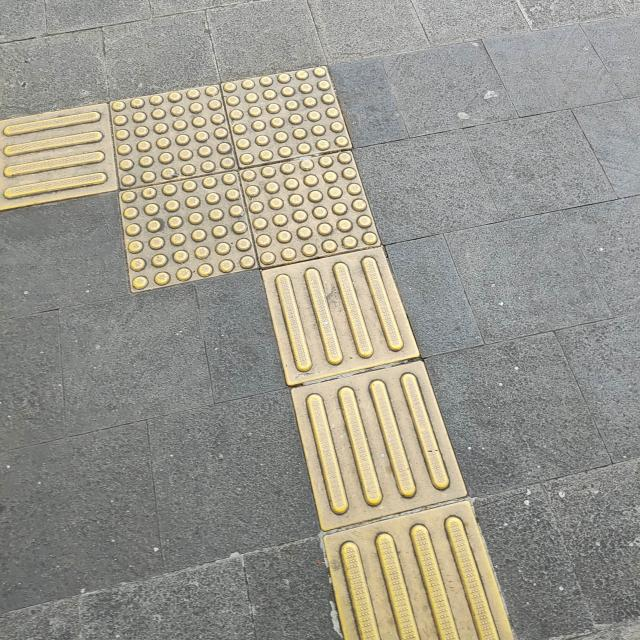kiri: (2, 39, 468, 402)
